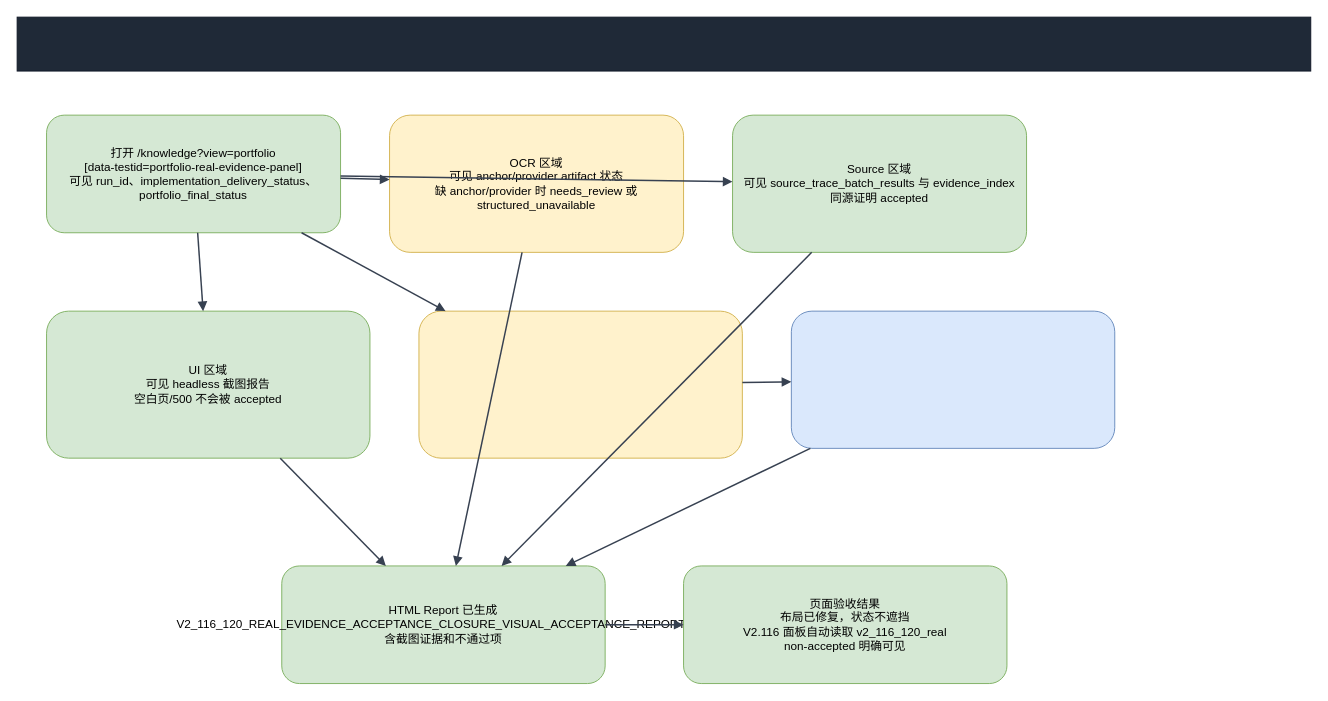
Some shapes in this 1328 by 701 pixel diagram are drawn without their labels. Here are the shapes that lost their labels. From the top down, the centre of each, then its label:
At (x=663, y=43): "用户操作路径：当前可人工体验的只读证据台与验收路径".
At (x=580, y=384): "Build 区域 可见 Safe Build proposal/skipped UI 不 approve，不执行无 sandbox 命令".
At (x=952, y=379): "Decision Panel 查看 decision_set、revoked/expired/superseded 复制 refs，不写入 artifact".
